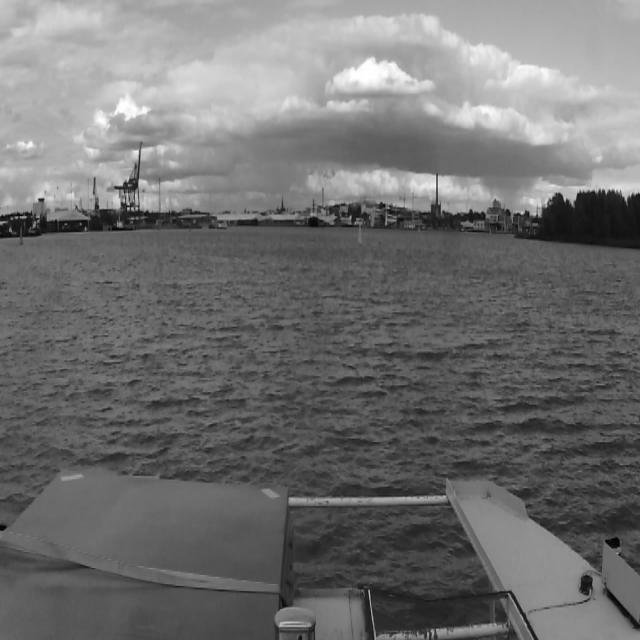buoy: (18, 228, 24, 244), (358, 225, 362, 246), (187, 222, 193, 235), (417, 224, 421, 234)
ship: (290, 198, 340, 226), (310, 198, 318, 228)
